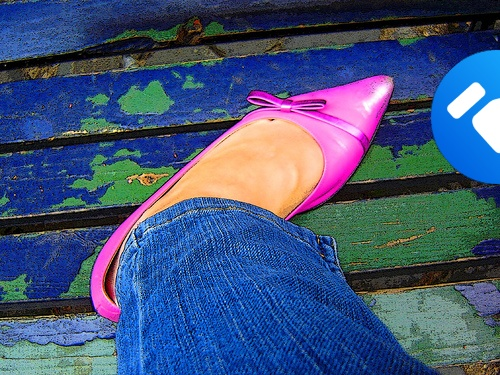like: (431, 50, 500, 184)
